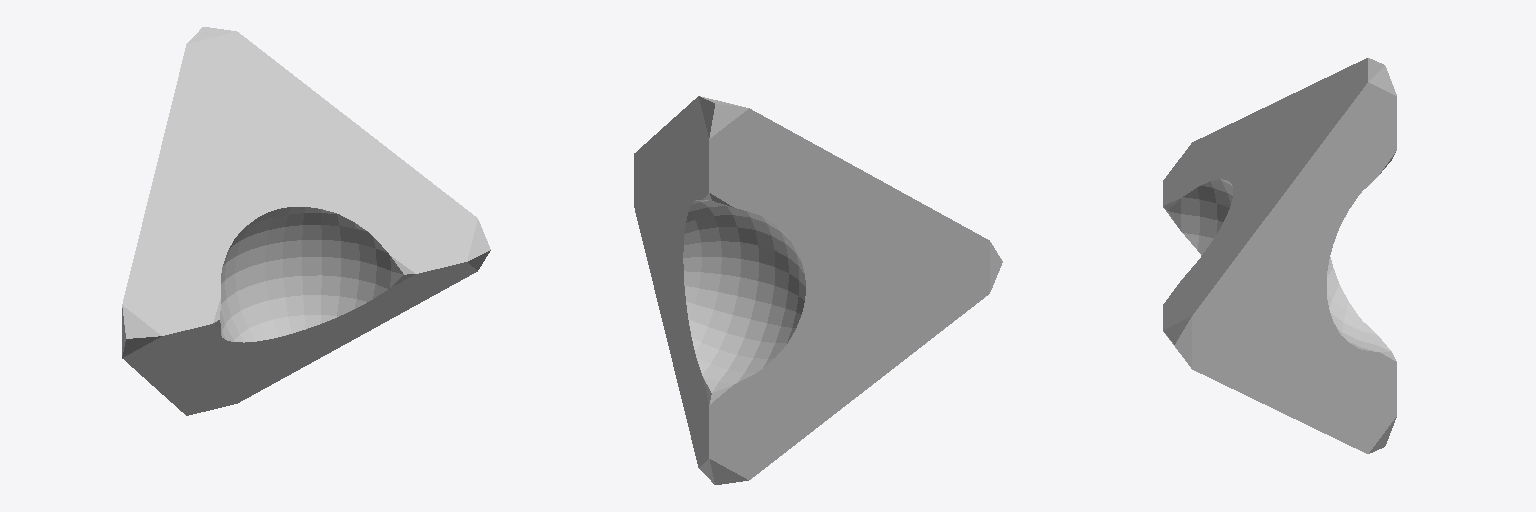
File: magneticball.obj
3 views of the same model, side by side, from view 1: azimuth 30°, elevation 25°; view 2: azimuth 150°, elevation 25°; view 3: azimuth 270°, elevation 25° (orthographic).
Parts seen in each view (by area): view 1: Cube_Cube.001; view 2: Cube_Cube.001; view 3: Cube_Cube.001.
Boxes of the visible parts, x1=… form: Cube_Cube.001: x1=122, y1=27, x2=490, y2=415; Cube_Cube.001: x1=634, y1=96, x2=1002, y2=484; Cube_Cube.001: x1=1163, y1=58, x2=1396, y2=453.
Size of the model in its own units: 3.59 by 3.59 by 2.